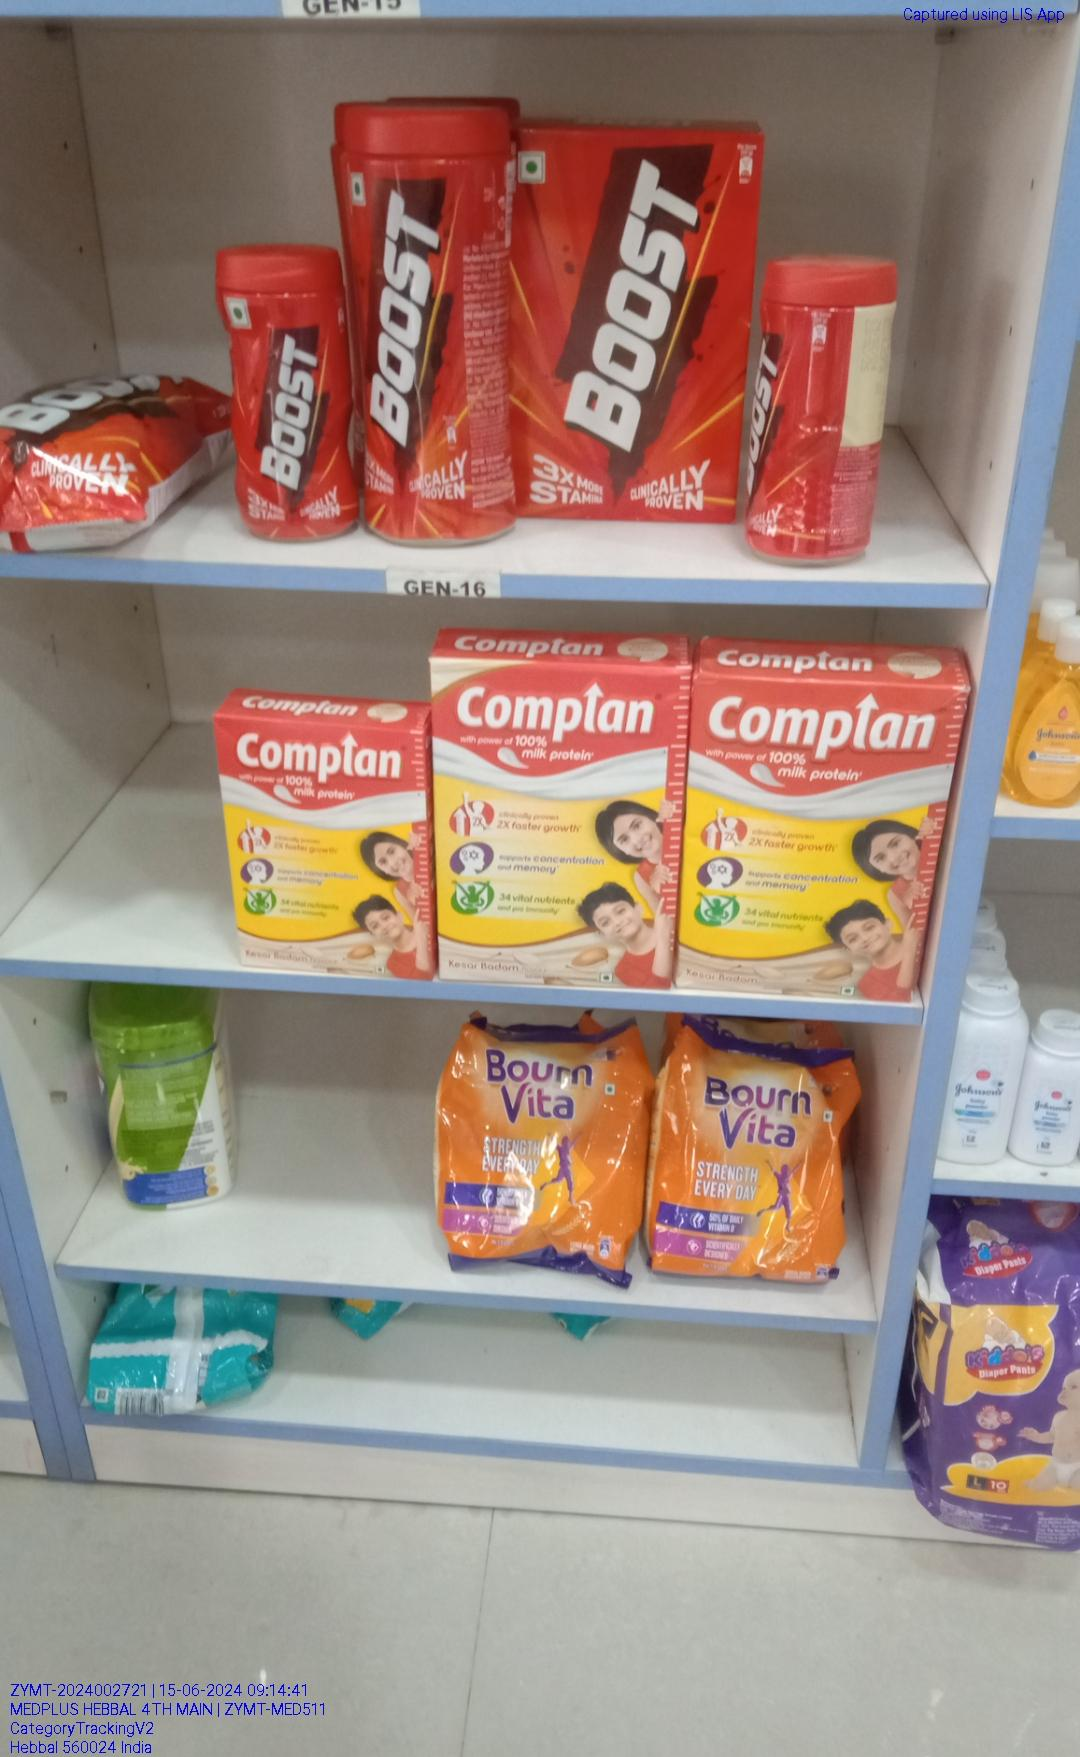BOURN_VITA_500_G_POUCH: (429, 1019, 637, 1280), (652, 1027, 842, 1291)
COMPLAN_KESAR_BADAM_200_GMS_PACK: (222, 714, 426, 974)
COMPLAN_KESAR_BADAM_500_GMS_PACK: (437, 650, 665, 988), (690, 669, 919, 1001)
